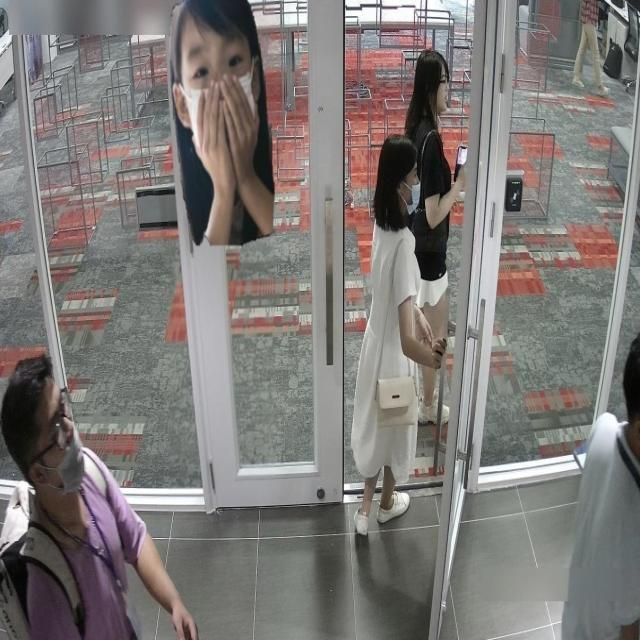hairnet: (30, 419, 83, 494)
